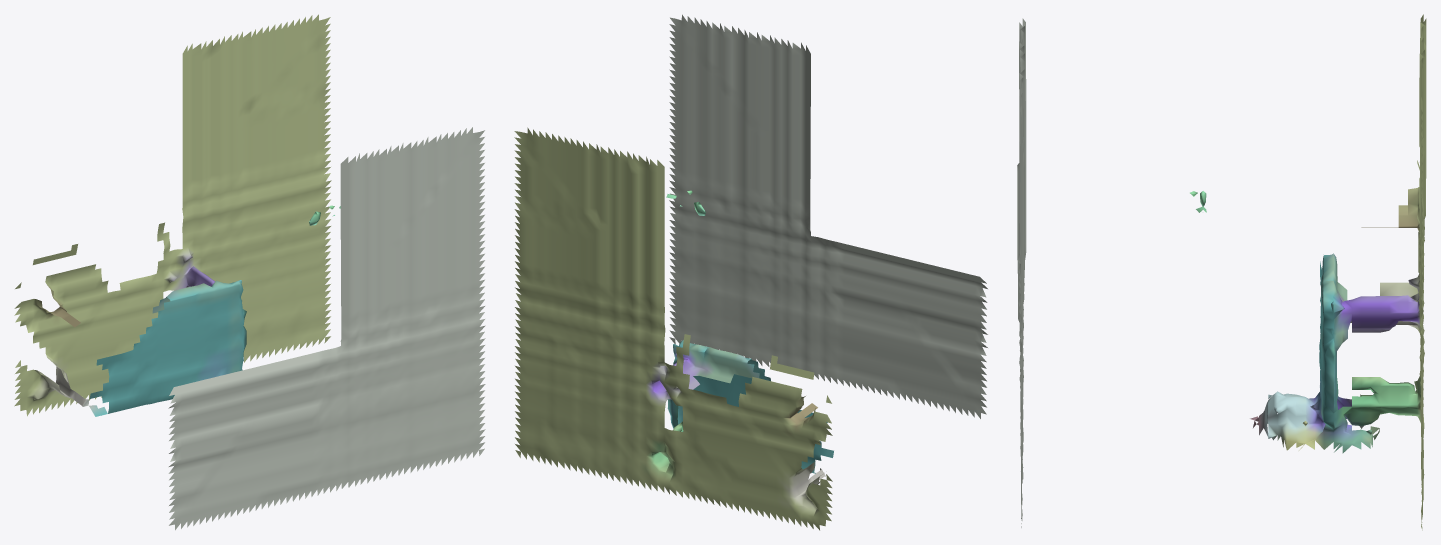
The model's file is tile_7e4ccbd5fe0e_0_-1_0_0_lod0.glb.
3 renders of one model, left to right at view 1: azimuth 30°, elevation 25°; view 2: azimuth 150°, elevation 25°; view 3: azimuth 270°, elevation 25°, orthographic. The views are drawn at different scales.
Size of the model in its own units: 4.08 by 4.08 by 3.52.
